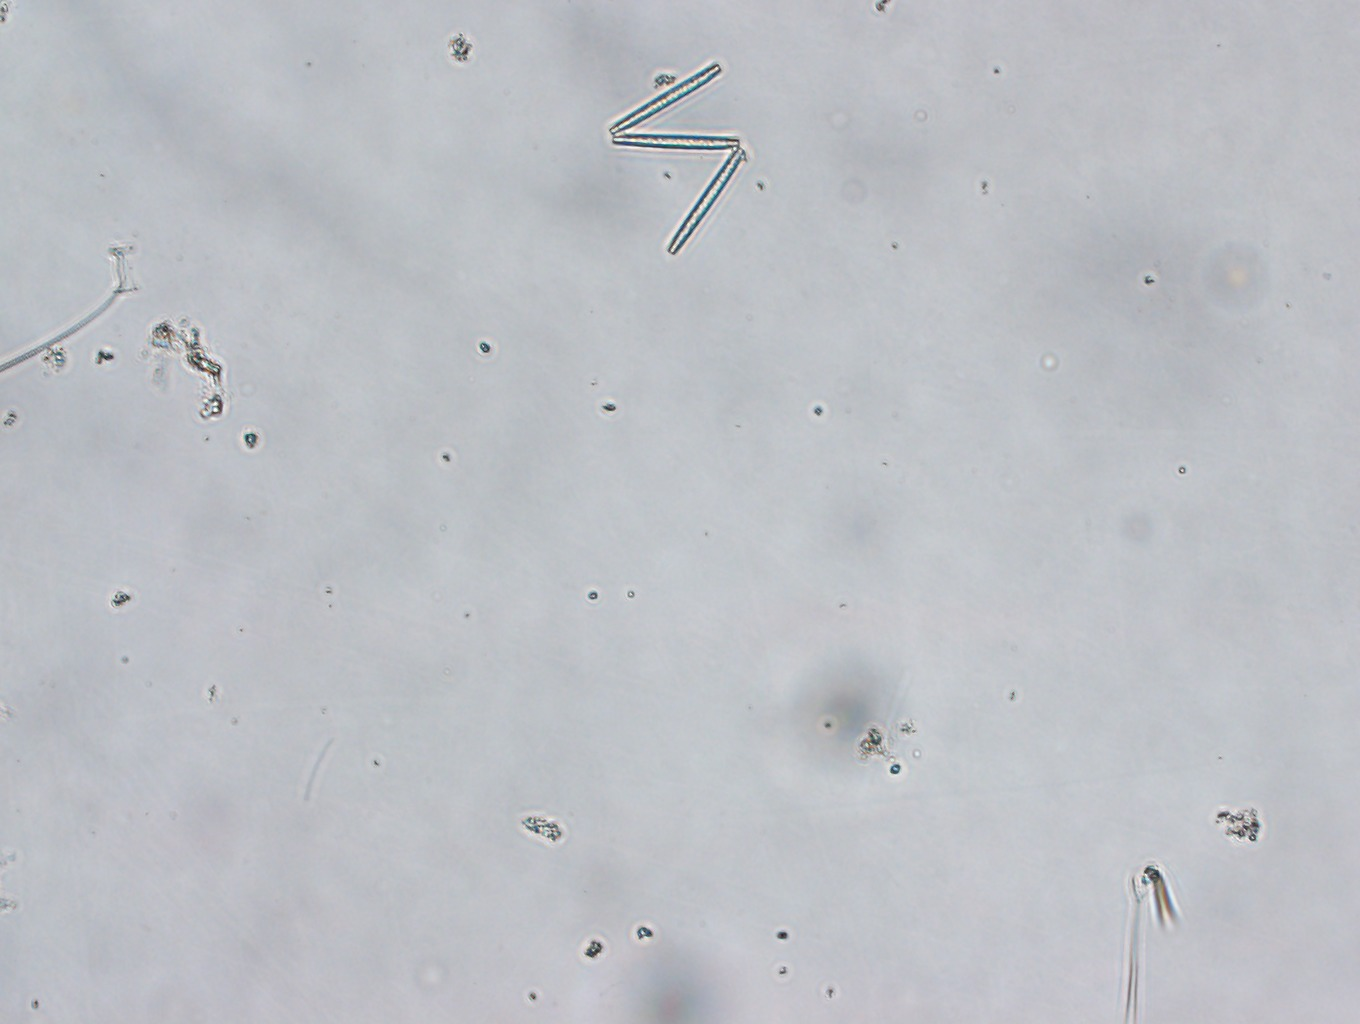thalassionema nitzschioides: (601, 53, 747, 260)
